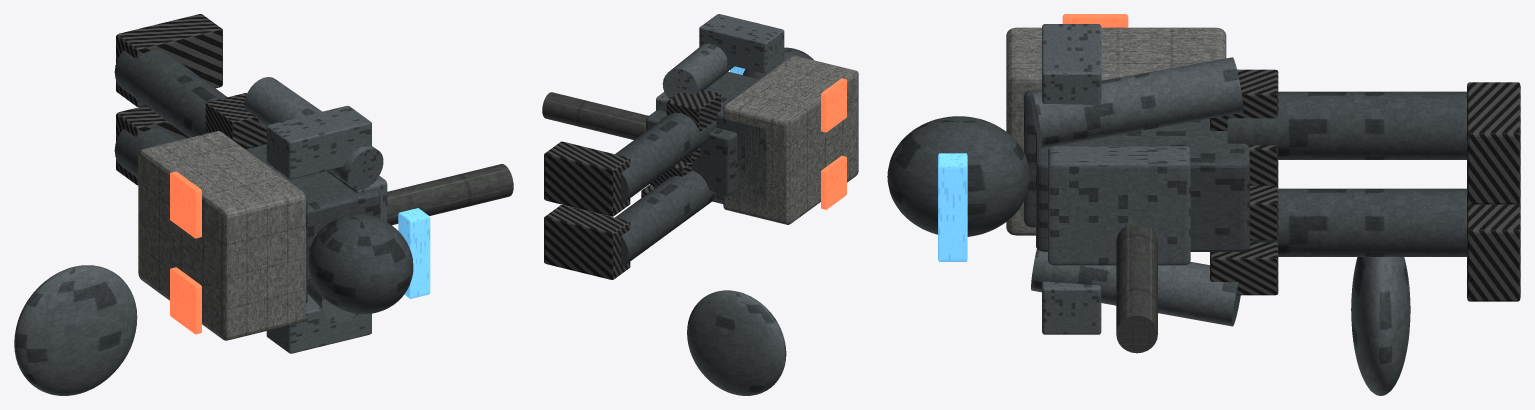
Rendered from s-u06-specter-combat-medic-lod0.glb.
3 renders of one model, left to right at view 1: azimuth 30°, elevation 25°; view 2: azimuth 150°, elevation 25°; view 3: azimuth 270°, elevation 25°, orthographic. The views are drawn at different scales.
Parts seen in each view (by area): view 1: medical_pack, medic_drone, soldier_0_helmet, soldier_0_shoulder_1, soldier_0_leg_1, soldier_0_boot_1, soldier_0_rifle, soldier_0_arm_1, soldier_0_torso, soldier_0_shoulder_-1, soldier_0_pouch_3, soldier_0_visor (+6 smaller); view 2: medical_pack, medic_drone, soldier_0_boot_1, soldier_0_boot_-1, soldier_0_leg_-1, soldier_0_leg_1, soldier_0_shoulder_1, soldier_0_torso, soldier_0_rifle, soldier_0_backpack, soldier_0_arm_1, soldier_0_pouch_3 (+4 smaller); view 3: soldier_0_chest, soldier_0_leg_1, soldier_0_leg_-1, soldier_0_helmet, soldier_0_arm_1, soldier_0_torso, medical_pack, medic_drone, soldier_0_boot_1, soldier_0_arm_-1, soldier_0_boot_-1, soldier_0_rifle (+9 smaller).
Part boxes in pixels (x1,y1,x2,y2): medical_pack: (138, 131, 305, 340); medic_drone: (14, 265, 137, 395); soldier_0_helmet: (308, 214, 413, 314); soldier_0_shoulder_1: (266, 105, 371, 179); soldier_0_leg_1: (114, 50, 266, 149); soldier_0_boot_1: (116, 14, 222, 106); soldier_0_rifle: (387, 164, 513, 225); soldier_0_arm_1: (244, 77, 383, 189); soldier_0_torso: (246, 144, 380, 280); soldier_0_shoulder_-1: (266, 294, 371, 353); soldier_0_pouch_3: (205, 93, 266, 148); soldier_0_visor: (398, 208, 430, 298); medical_pack: (723, 55, 858, 224); medic_drone: (687, 290, 786, 395); soldier_0_boot_1: (544, 141, 630, 216); soldier_0_boot_-1: (544, 205, 630, 279); soldier_0_leg_-1: (615, 170, 716, 267); soldier_0_leg_1: (615, 112, 716, 204); soldier_0_shoulder_1: (699, 14, 784, 73); soldier_0_torso: (646, 71, 759, 194); soldier_0_rifle: (542, 92, 648, 139); soldier_0_backpack: (716, 108, 766, 208); soldier_0_arm_1: (662, 43, 733, 98); soldier_0_pouch_3: (666, 89, 720, 131); soldier_0_chest: (1048, 146, 1190, 265); soldier_0_leg_1: (1227, 91, 1466, 159); soldier_0_leg_-1: (1250, 188, 1466, 256); soldier_0_helmet: (887, 116, 1029, 236); soldier_0_arm_1: (1031, 57, 1243, 148); soldier_0_torso: (1036, 118, 1249, 251); medical_pack: (1006, 27, 1226, 235); medic_drone: (1351, 257, 1410, 395); soldier_0_boot_1: (1467, 82, 1520, 204); soldier_0_arm_-1: (1031, 249, 1240, 326); soldier_0_boot_-1: (1467, 201, 1520, 301); soldier_0_rifle: (1116, 223, 1157, 353).
Size of what is drawn, in the model's own units: 1.88 by 1.53 by 2.13.
Materials: 7 (7 with a texture image).
